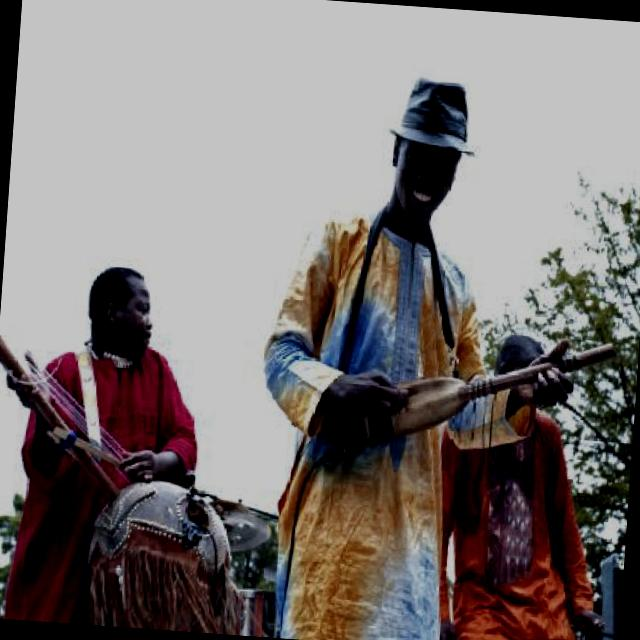Person: (282, 82, 538, 640), (11, 256, 211, 630), (426, 327, 625, 640)
